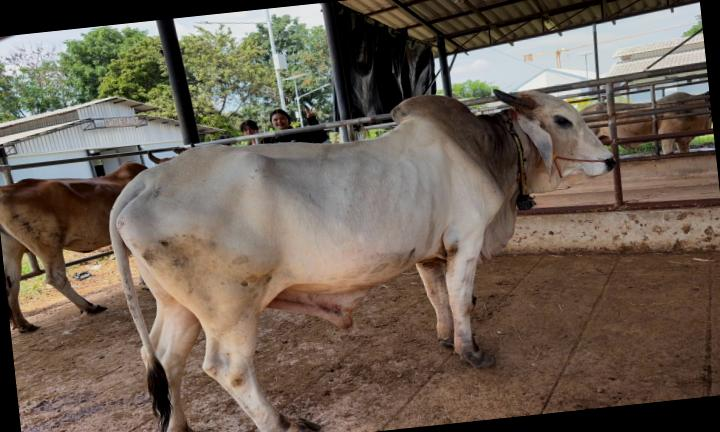Brahman: (107, 91, 614, 432)
